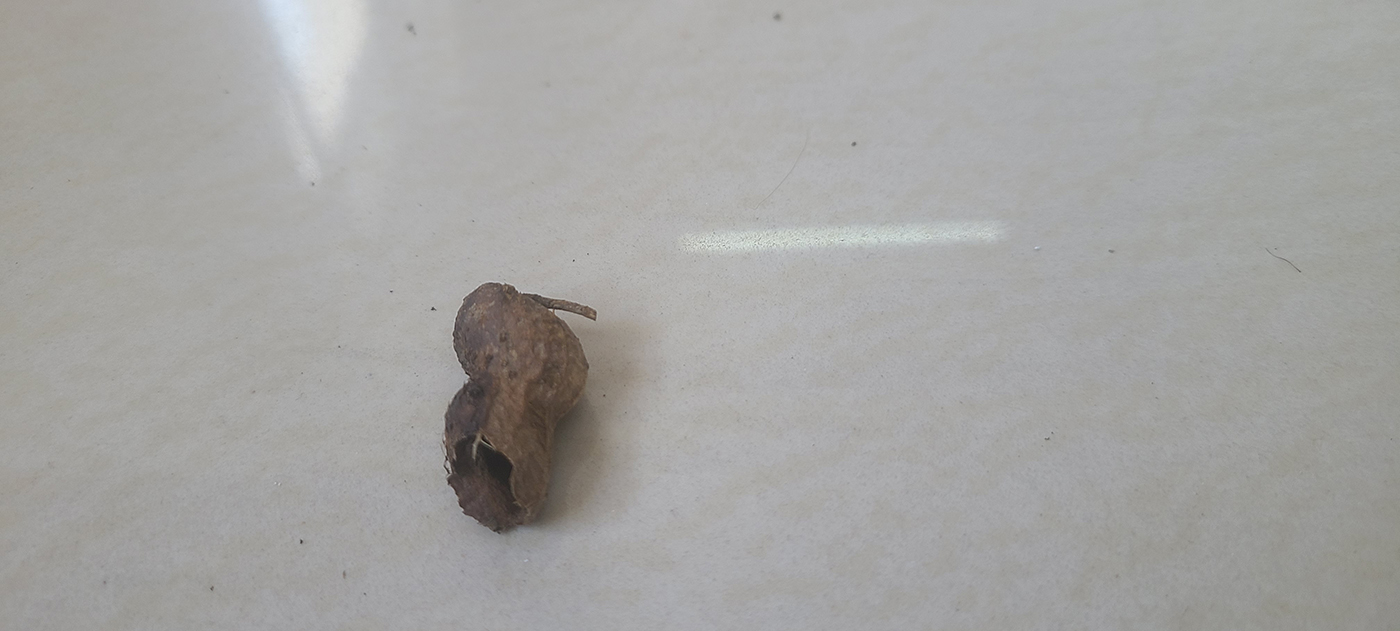l: (444, 281, 599, 532)
